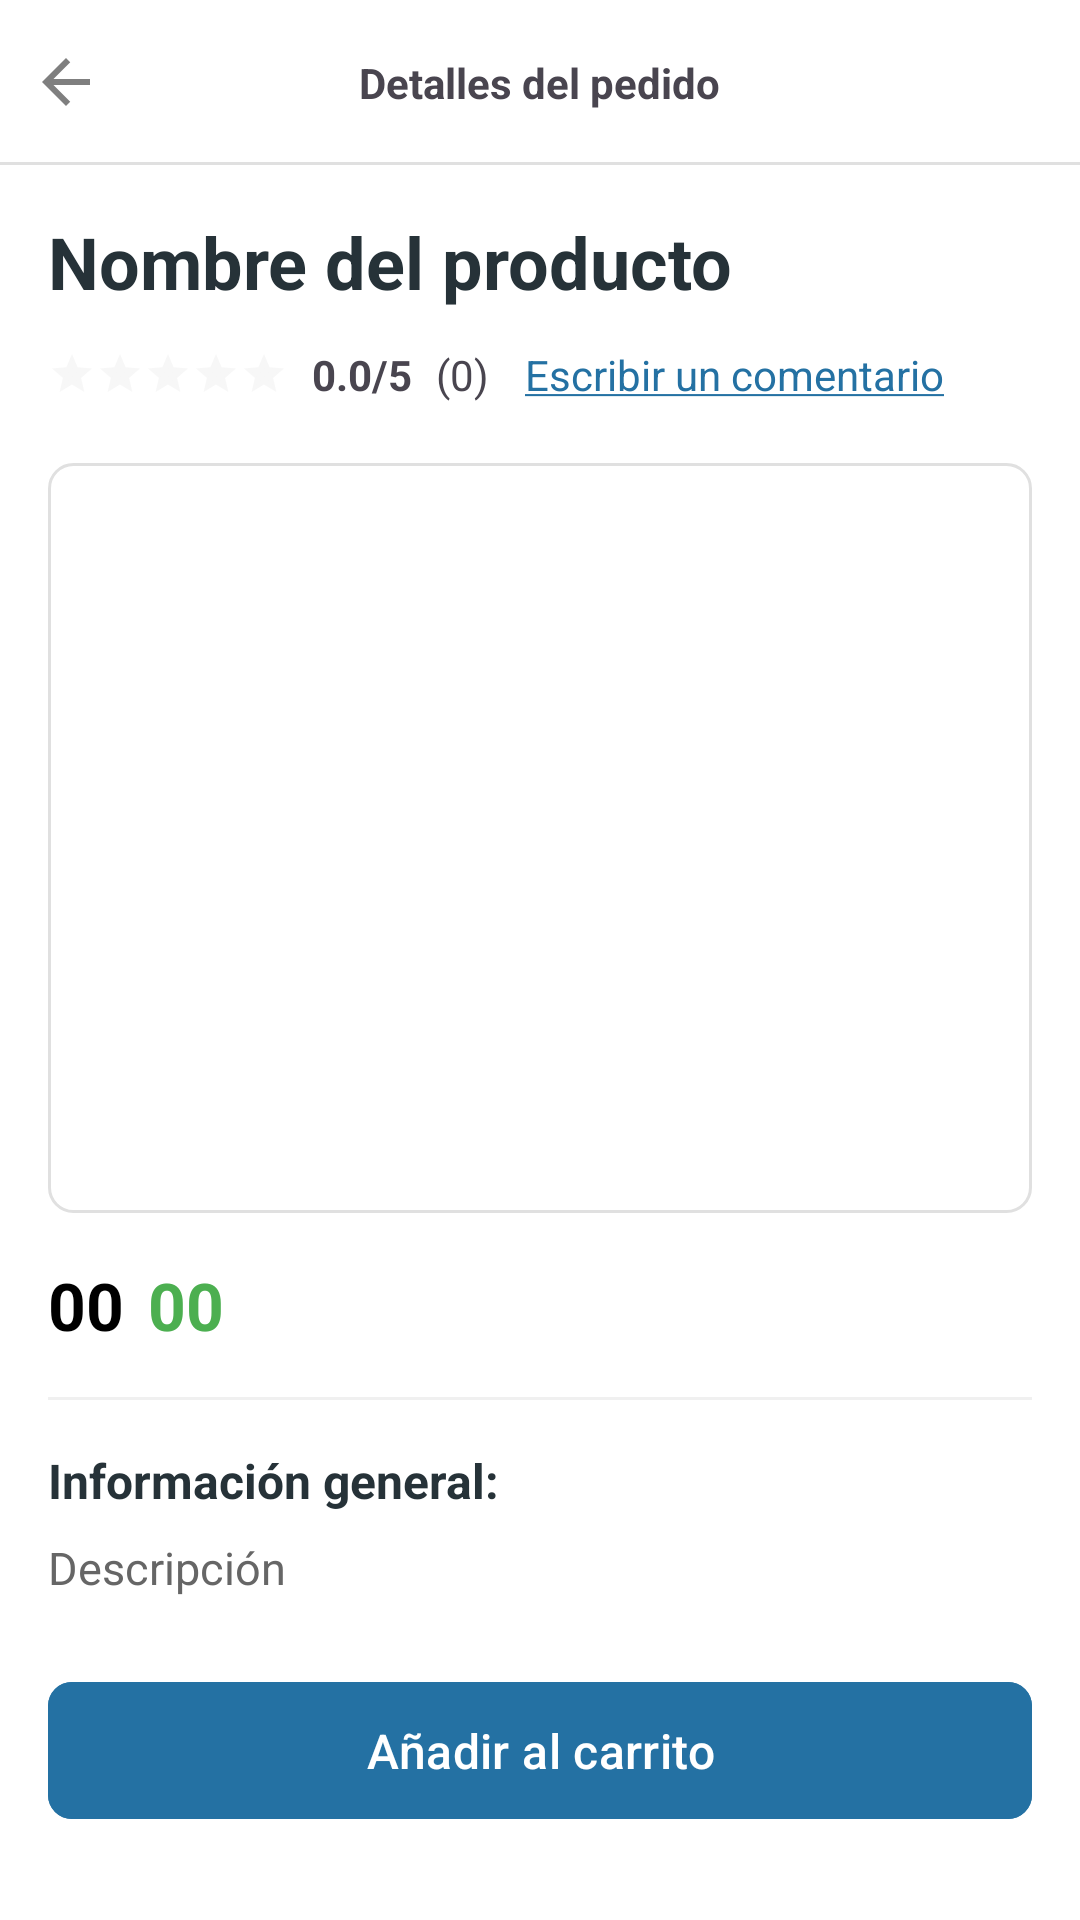

Where icons sit on this 1080px×1920px app screen, as (x1, y1, x2, y2):
regresar: (42, 58, 90, 106)
